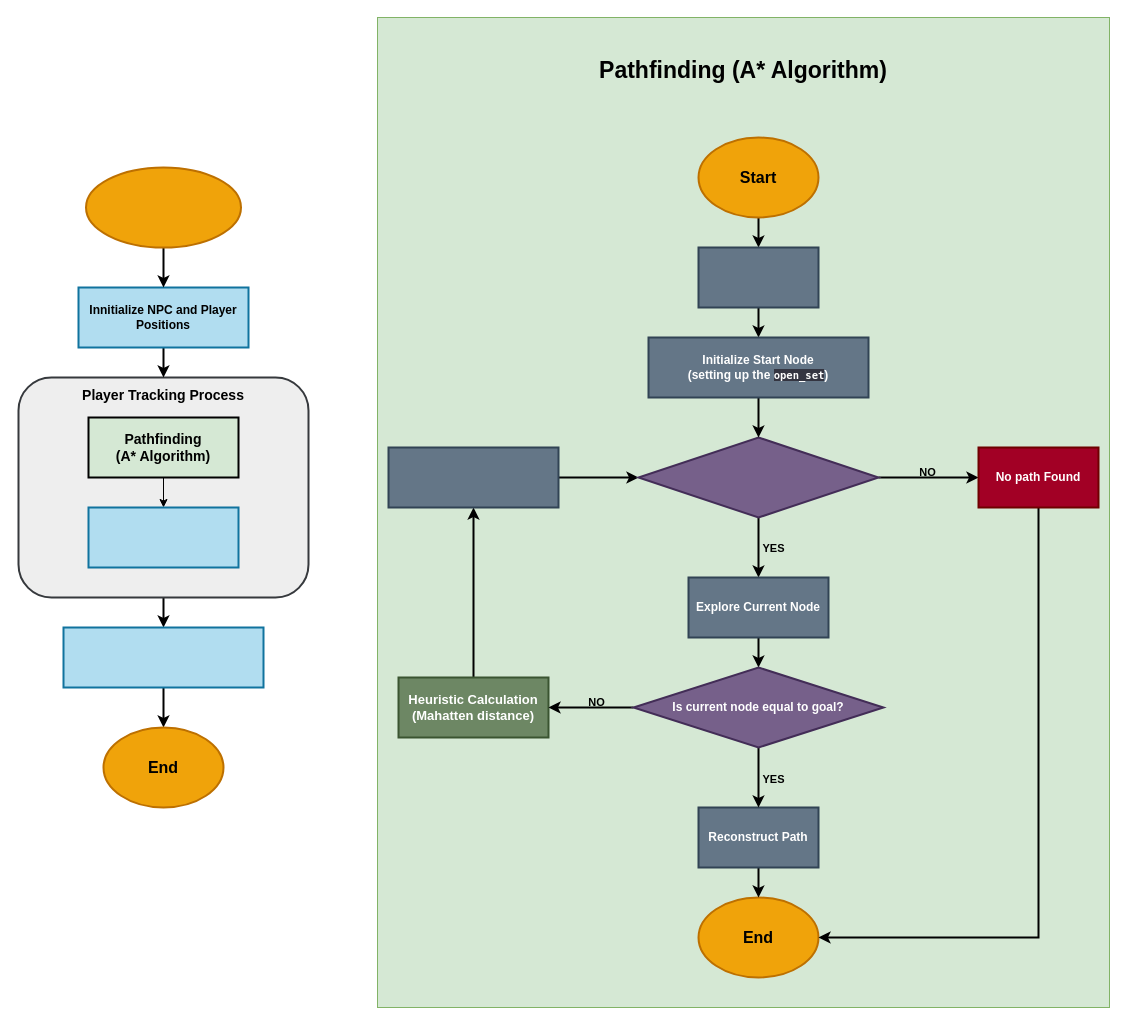
The diagram is 1127 pixels wide and 1025 high, and some of its shapes have lost their labels. The shapes that lost their labels are listed below. From the top down, each one's centre as x and y in pixels, then its label:
At (163,207): "NPC Starts Tracking".
At (758,277): "Initialize Data Structures".
At (473,477): "Update Data Structures".
At (758,477): "Is open_set not empty ?".
At (163,537): "Find Optimal Path to Player".
At (163,657): "Move towards Player".
